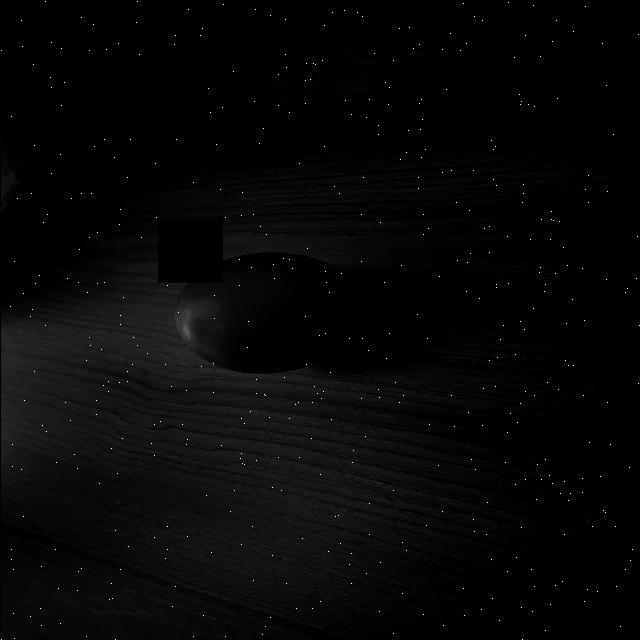egg: (167, 242, 366, 388)
